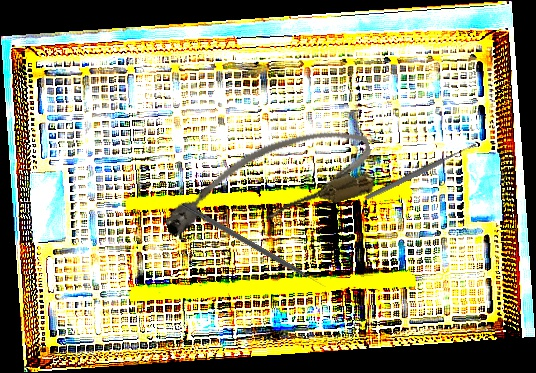Cannula: (152, 117, 383, 250)
Hook Surgical: (180, 202, 327, 291)
Surgical Spoon: (364, 141, 478, 202)
